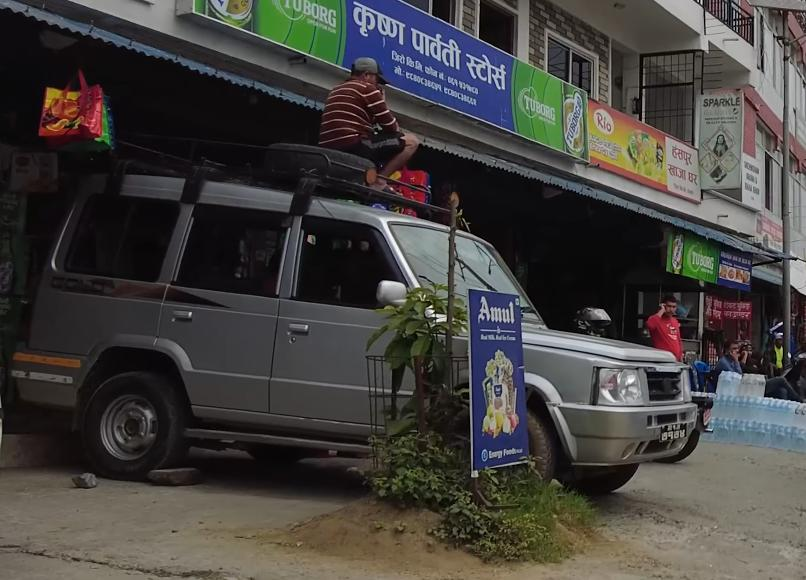SUV: (2, 137, 705, 519)
